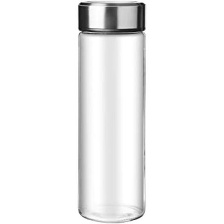bottle: (73, 0, 151, 224)
